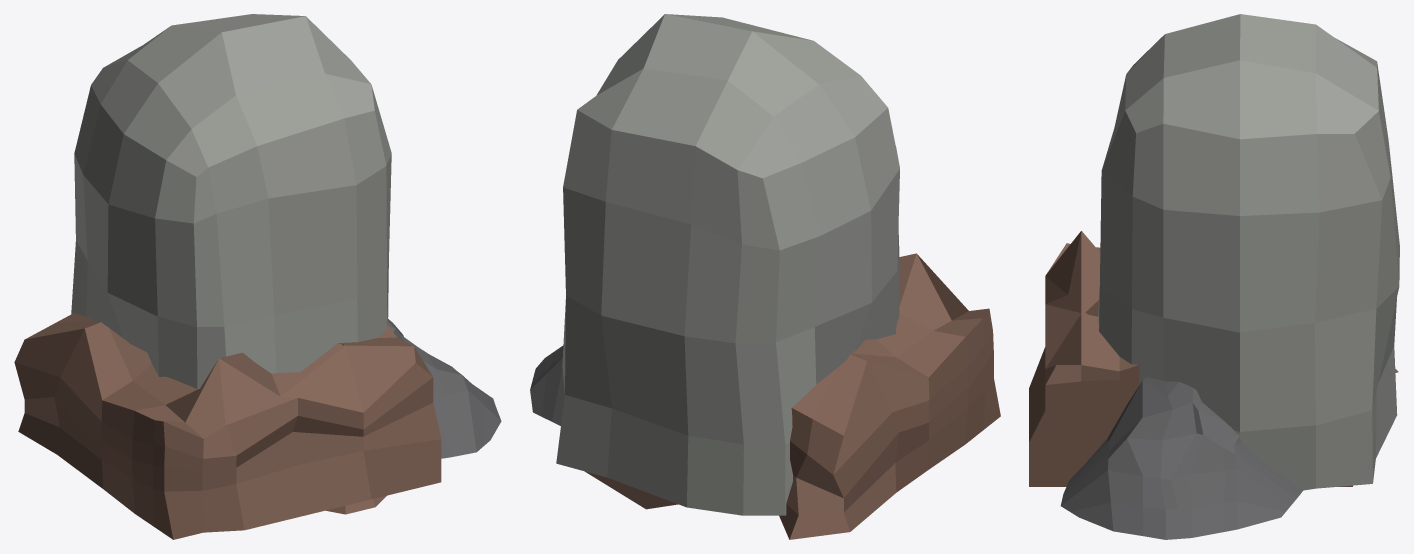
Rendered from rock1.fbx.
3 renders of one model, left to right at view 1: azimuth 30°, elevation 25°; view 2: azimuth 150°, elevation 25°; view 3: azimuth 270°, elevation 25°, orthographic. The views are drawn at different scales.
Parts seen in each view (by area): view 1: Plane.001, Plane.003, Plane; view 2: Plane.001, Plane.003, Plane; view 3: Plane.001, Plane, Plane.003.
Part boxes in pixels (x1,y1,x2,y2): Plane.001: [71, 14, 391, 388]; Plane.003: [14, 313, 441, 539]; Plane: [388, 319, 501, 458]; Plane.001: [556, 14, 899, 515]; Plane.003: [585, 253, 1000, 539]; Plane: [530, 345, 564, 425]; Plane.001: [1098, 14, 1399, 490]; Plane: [1060, 377, 1303, 539]; Plane.003: [1029, 231, 1398, 486].
Size of the model in its own units: 300 by 316 by 241.
